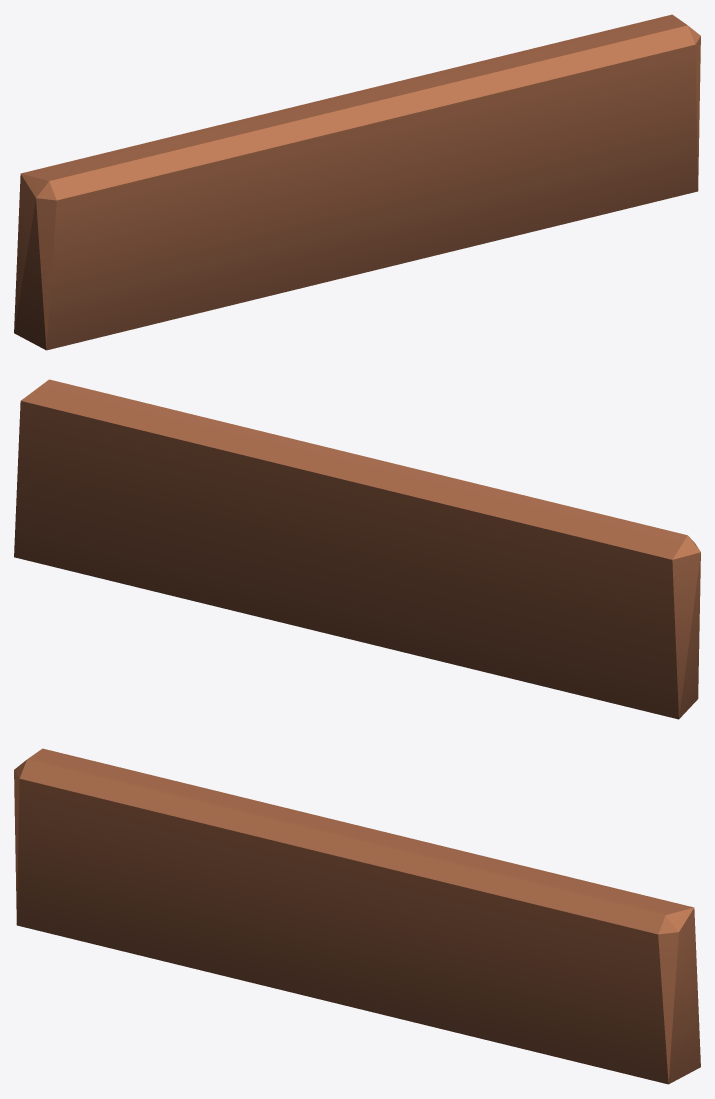
Rendered from fencemiddlemirror.glb.
The picture shows the model from 3 angles, top to bottom: view 1: azimuth 30°, elevation 25°; view 2: azimuth 150°, elevation 25°; view 3: azimuth 330°, elevation 25°; orthographic projection.
Visible parts, largest first — view 1: fencemiddlemirror; view 2: fencemiddlemirror; view 3: fencemiddlemirror.
Boxes of the visible parts, x1=… form: fencemiddlemirror: x1=14, y1=14, x2=700, y2=350; fencemiddlemirror: x1=14, y1=379, x2=700, y2=719; fencemiddlemirror: x1=14, y1=748, x2=700, y2=1084.
Bounding box in the file's own units: 0.8226 × 0.195 × 0.0635.
Materials: 1 (1 with a texture image).
